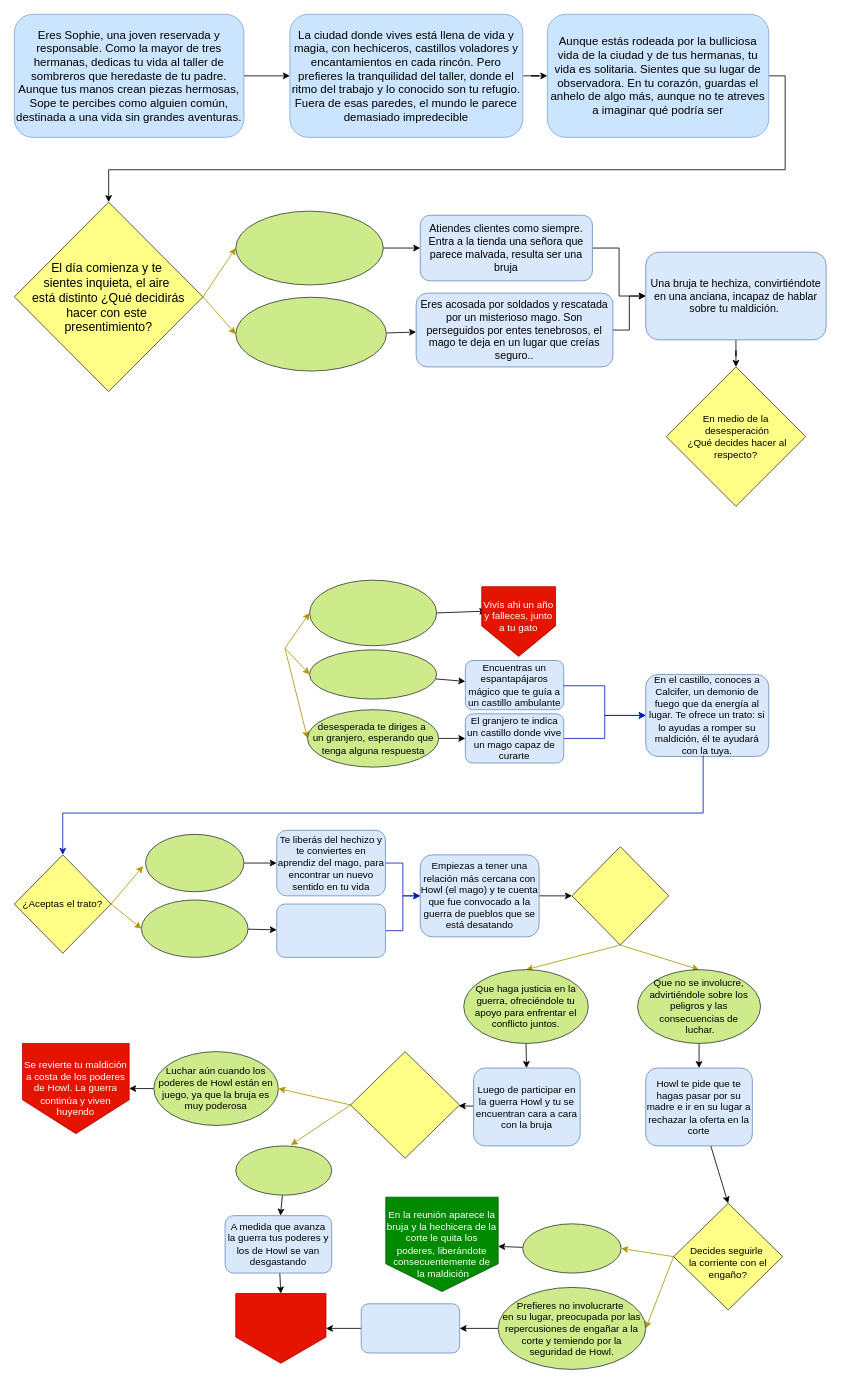
Image size: 841x1384. Some labels were removed from this diagram. Here are the shapes that lost their labels. From the top down, the centre of each, then its label:
the point at 309,247: Permanecer en la tienda, donde todo parece bajo control
the point at 310,333: Salir a descubrir lo que esconde la bulliciosa ciudad
the point at 373,612: Resignada al hechizo, te instalas en un geriátrico, aceptando tu nuevo destino
the point at 373,674: partes hacia las montañas en busca de una cura
the point at 194,863: Piensas que no tienes nada que perder, aceptas
the point at 620,895: ¿Qué consejo ves más adecuado?
the point at 194,928: Desconfías de sus intenciones, te niegas
the point at 330,930: Te convertís en ama de llaves del castillo, ya que no tienes donde ir
the point at 405,1104: En esta situación inesperada y terrorosa, ¿Qué deciden hacer?
the point at 283,1170: Huir para buscar refugio
the point at 571,1248: Te arriesgas por él y eliges ir
the point at 280,1328: La bruja mata a Howl y por el vacío te mueres de la tristeza
the point at 410,1328: La bruja manda entes a secuestrarte para atraer a Howl
